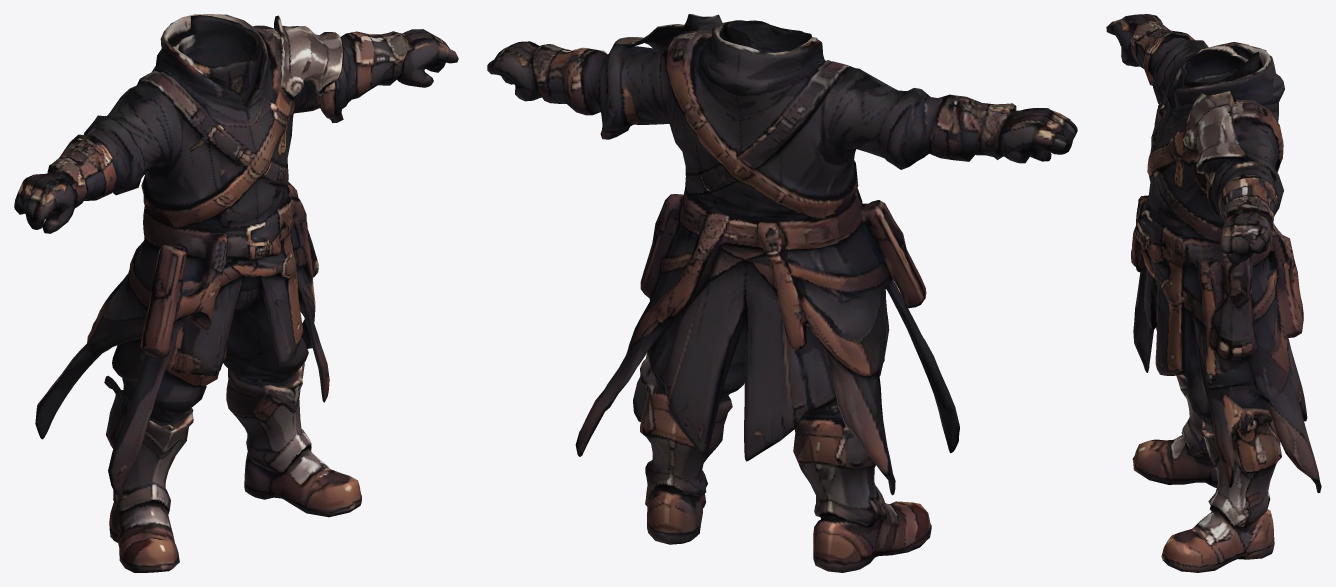
3 views of the same model, side by side, from view 1: azimuth 30°, elevation 25°; view 2: azimuth 150°, elevation 25°; view 3: azimuth 270°, elevation 25° (orthographic). The views are drawn at different scales.
Visible parts, largest first — view 1: tripo_node_0a8ae752-156d-4541-87c3-43b430fa9417; view 2: tripo_node_0a8ae752-156d-4541-87c3-43b430fa9417; view 3: tripo_node_0a8ae752-156d-4541-87c3-43b430fa9417.
Boxes of the visible parts, <box> form: tripo_node_0a8ae752-156d-4541-87c3-43b430fa9417: <box>14,14,458,572</box>; tripo_node_0a8ae752-156d-4541-87c3-43b430fa9417: <box>487,14,1077,572</box>; tripo_node_0a8ae752-156d-4541-87c3-43b430fa9417: <box>1106,14,1321,572</box>.
Size of the model in its own units: 0.973 by 0.9407 by 0.3933.
1 material, 1 textured.
